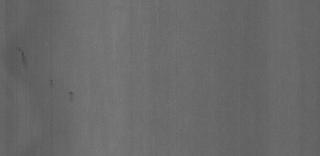water spot: (14, 44, 32, 68), (66, 89, 82, 105), (45, 74, 57, 91)
